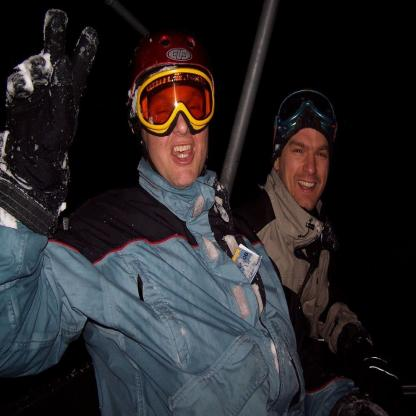Helmet: (122, 32, 215, 166), (265, 92, 340, 166)
